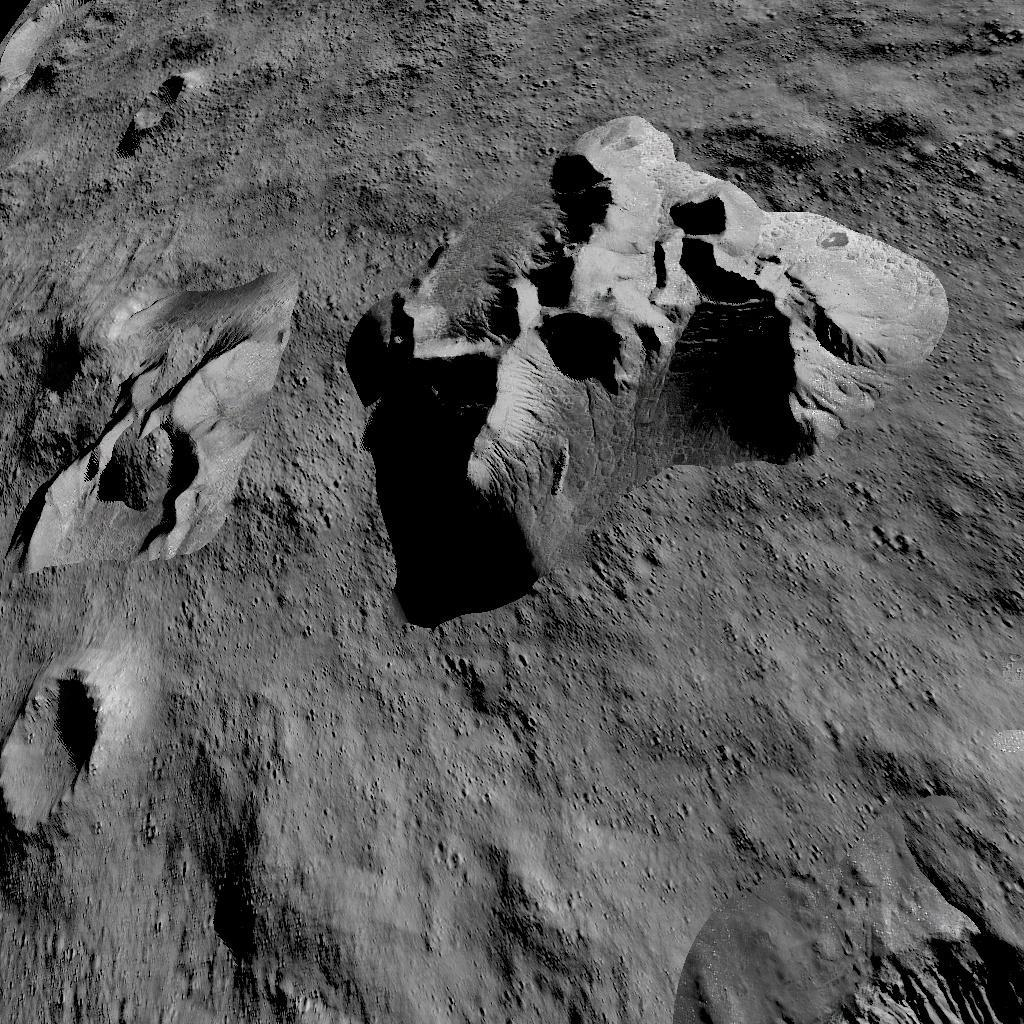Boulders: (323, 112, 948, 630)
Crater: (3, 280, 255, 580), (0, 652, 113, 850), (819, 923, 1024, 1024), (0, 0, 101, 101), (120, 69, 216, 149)
Plan surface: (168, 662, 796, 1014), (245, 0, 1024, 93), (829, 658, 1024, 908), (0, 166, 252, 274)
